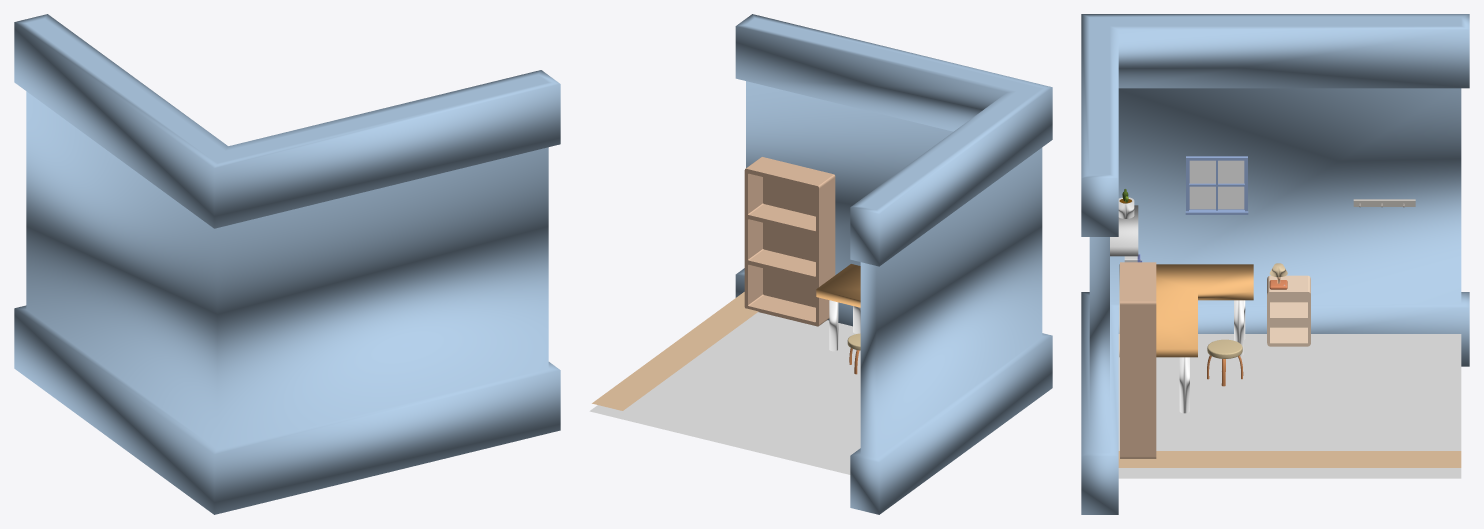
The model's file is SceneFirst.glb.
3 views of the same model, side by side, from view 1: azimuth 30°, elevation 25°; view 2: azimuth 150°, elevation 25°; view 3: azimuth 270°, elevation 25° (orthographic). The views are drawn at different scales.
Visible parts, largest first — view 1: background; view 2: background, models, ground; view 3: background, models, ground.
Boxes of the visible parts, x1,y1,x2,y2 form: background: [14, 14, 560, 514]; background: [589, 14, 1052, 514]; models: [744, 157, 860, 374]; ground: [592, 292, 758, 410]; background: [1081, 14, 1469, 514]; models: [1110, 156, 1415, 458]; ground: [1118, 451, 1461, 467].
Bounding box in the file's own units: 22.27 × 21.3 × 22.27.
